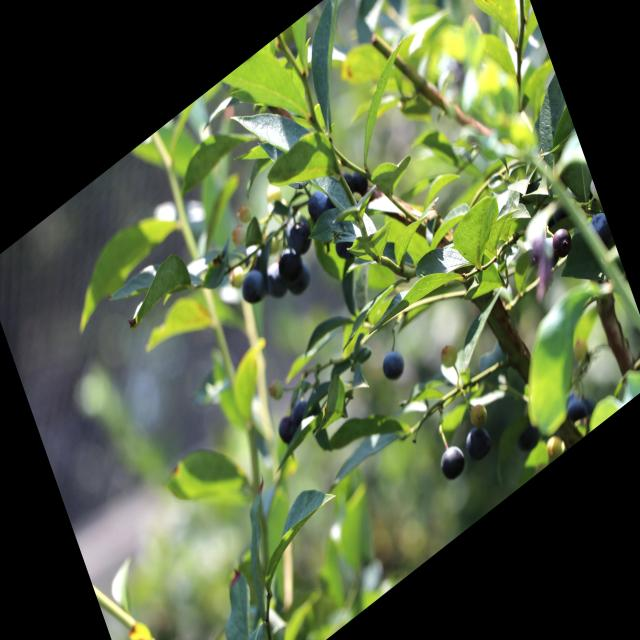blueberry: (258, 254, 292, 308), (283, 208, 317, 260), (461, 417, 496, 467), (274, 240, 307, 288), (237, 262, 269, 310), (437, 439, 469, 486), (378, 342, 409, 387), (587, 205, 614, 253), (303, 184, 331, 228), (549, 222, 576, 265), (273, 409, 299, 449)
blueberry-unripe: (436, 336, 460, 372), (225, 261, 248, 296), (266, 374, 287, 406), (263, 179, 285, 209), (229, 221, 249, 251), (234, 200, 254, 230)
